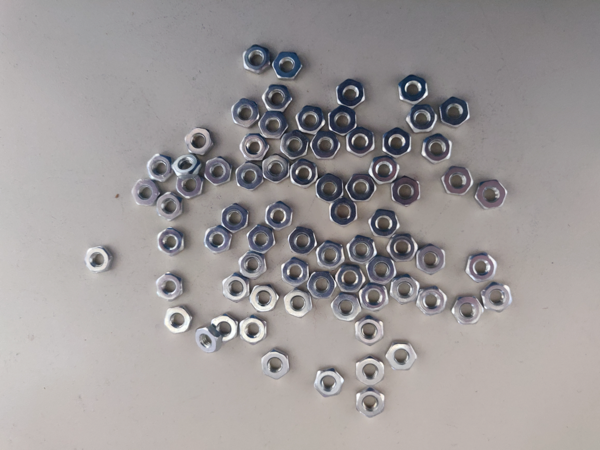nut: (475, 178, 508, 210), (442, 165, 474, 197), (422, 133, 454, 165), (439, 96, 471, 128), (406, 102, 438, 134), (397, 74, 429, 106), (336, 77, 367, 110), (328, 104, 359, 137), (355, 388, 386, 420), (388, 232, 419, 263), (367, 255, 398, 286), (466, 253, 497, 283), (481, 283, 512, 313), (417, 287, 448, 317), (417, 245, 448, 275), (355, 316, 386, 346), (386, 343, 417, 373), (355, 357, 386, 387), (283, 289, 314, 319), (359, 283, 390, 313), (390, 276, 421, 306), (346, 235, 377, 265), (335, 265, 366, 295), (330, 292, 361, 322), (273, 50, 303, 80), (262, 83, 292, 113), (295, 104, 325, 134), (346, 127, 376, 157), (391, 177, 421, 207), (370, 209, 400, 239), (453, 296, 483, 326), (315, 368, 345, 398), (238, 316, 268, 346), (249, 284, 279, 314), (280, 258, 310, 288), (289, 159, 319, 189), (235, 161, 265, 191), (261, 154, 291, 184), (260, 351, 291, 380), (287, 227, 318, 256), (264, 201, 295, 230), (329, 198, 360, 227), (154, 273, 185, 302), (203, 226, 234, 255), (220, 205, 251, 234), (247, 225, 278, 254), (237, 252, 268, 281), (243, 44, 272, 74), (231, 98, 260, 128), (383, 129, 412, 159), (315, 174, 345, 203), (370, 156, 400, 185), (157, 228, 187, 257), (163, 307, 193, 336), (312, 131, 341, 161), (204, 157, 233, 187), (84, 246, 114, 275), (346, 174, 377, 202), (241, 133, 270, 162), (222, 275, 252, 303), (307, 271, 337, 299), (316, 242, 346, 270), (186, 127, 214, 156), (195, 327, 223, 355), (212, 315, 240, 343), (260, 112, 288, 140), (147, 154, 174, 183), (280, 129, 306, 159), (156, 193, 182, 222), (133, 179, 159, 208), (155, 193, 181, 222), (177, 173, 204, 200), (173, 152, 200, 179)
